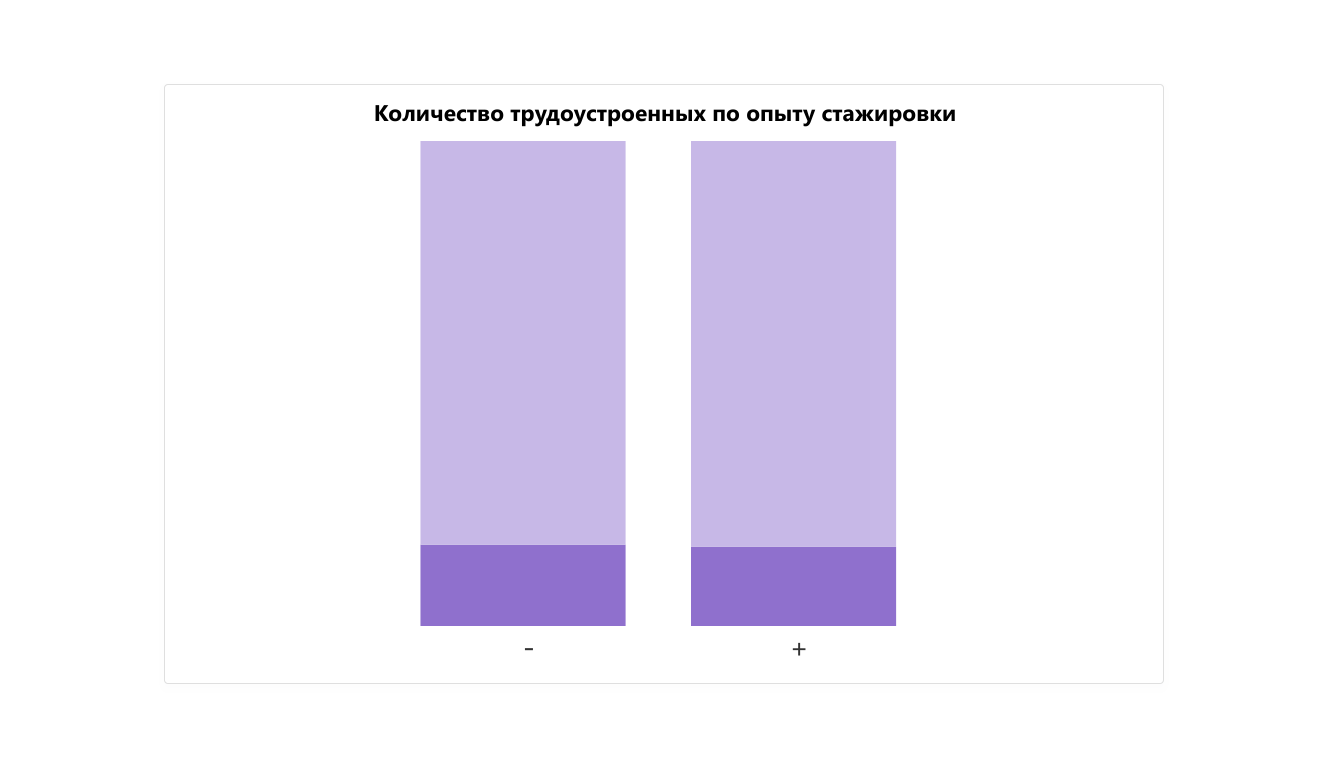

What the dashboard file says about the page in this screenshot:
{"tool":"powerbi","page":{"name":"ОПЫТ СТАЖИРОВКИ","canvas":[1280,720],"ordinal":4},"visuals":[{"type":"hundredPercentStackedColumnChart","title":"Количество трудоустроенных по опыту стажировки","fields":{"Category":["internship_experience.Опыт_стажировки"],"Y":["Sum(internship_experience.Трудоустроенные)","Sum(internship_experience.Нетрудоустроенные)"]},"box":[139.7,60,1000.3,600],"z":0}]}

Visuals, with their boxes in screenshot pixels (x1, y1, x2, y2), scaled from the page's 1280x720 canvas onto the 1328x768 screenshot:
"Количество трудоустроенных по опыту стажировки" hundredPercentStackedColumnChart: left=145, top=64, right=1183, bottom=704
